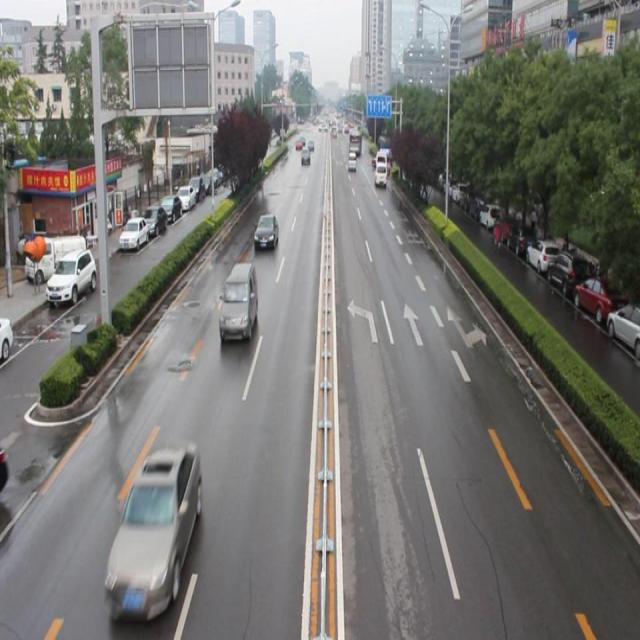car: (103, 442, 201, 616), (253, 212, 278, 251)
truck: (218, 262, 258, 342), (372, 162, 387, 186)
